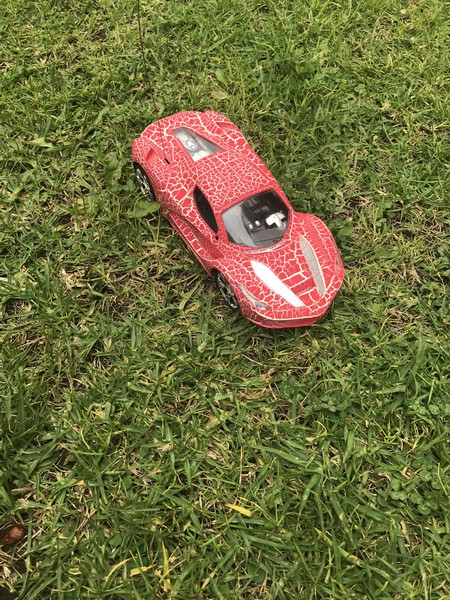RC: (131, 106, 348, 332)
